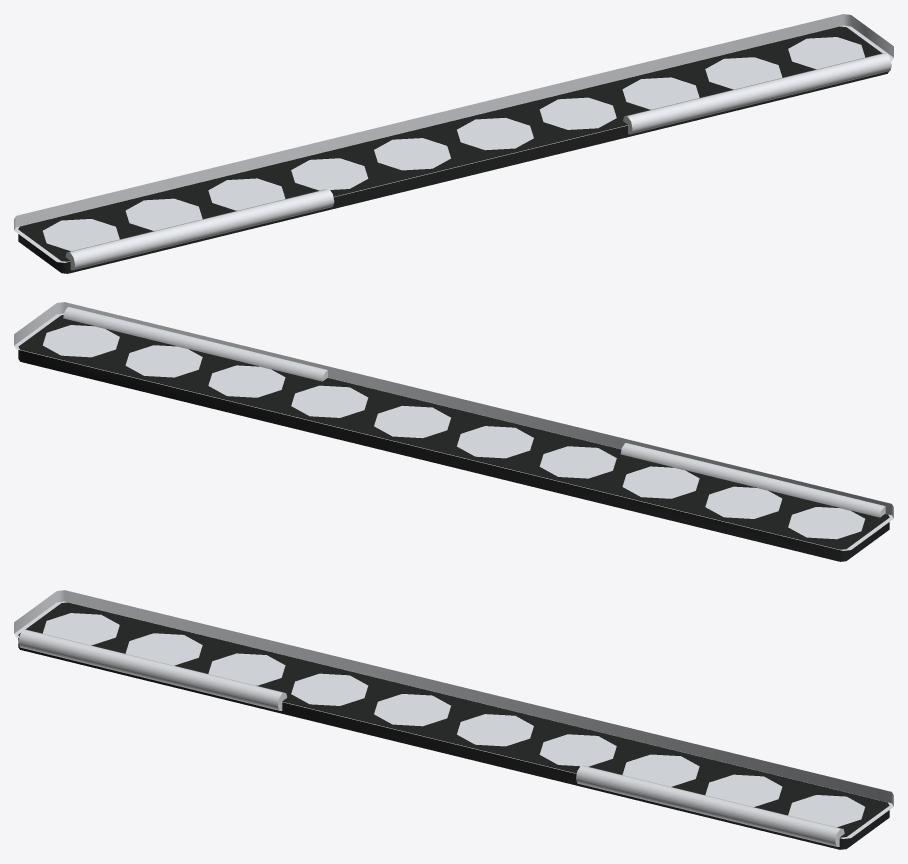
File: Make Up Pallete.glb
3 renders of one model, top to bottom at view 1: azimuth 30°, elevation 25°; view 2: azimuth 150°, elevation 25°; view 3: azimuth 330°, elevation 25°, orthographic.
Visible parts, largest first — view 1: make up_pallete.005, make up_pallete_cover.004; view 2: make up_pallete.005, make up_pallete_cover.004; view 3: make up_pallete.005, make up_pallete_cover.004.
Boxes of the visible parts, x1=… form: make up_pallete.005: x1=18, y1=26, x2=891, y2=273; make up_pallete_cover.004: x1=14, y1=14, x2=893, y2=262; make up_pallete.005: x1=18, y1=307, x2=889, y2=561; make up_pallete_cover.004: x1=14, y1=302, x2=893, y2=550; make up_pallete.005: x1=18, y1=602, x2=889, y2=849; make up_pallete_cover.004: x1=14, y1=590, x2=893, y2=838.
Bounding box in the file's own units: 46.43 × 1.25 × 5.06.
2 materials, 2 textured.
